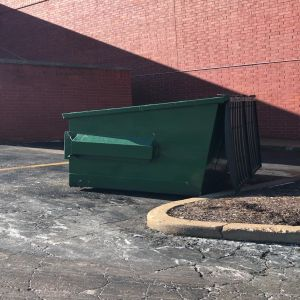Dumpster: (59, 91, 266, 196)
